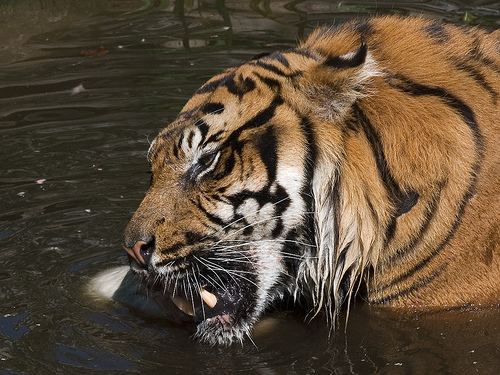Tigre: (117, 15, 500, 340)
